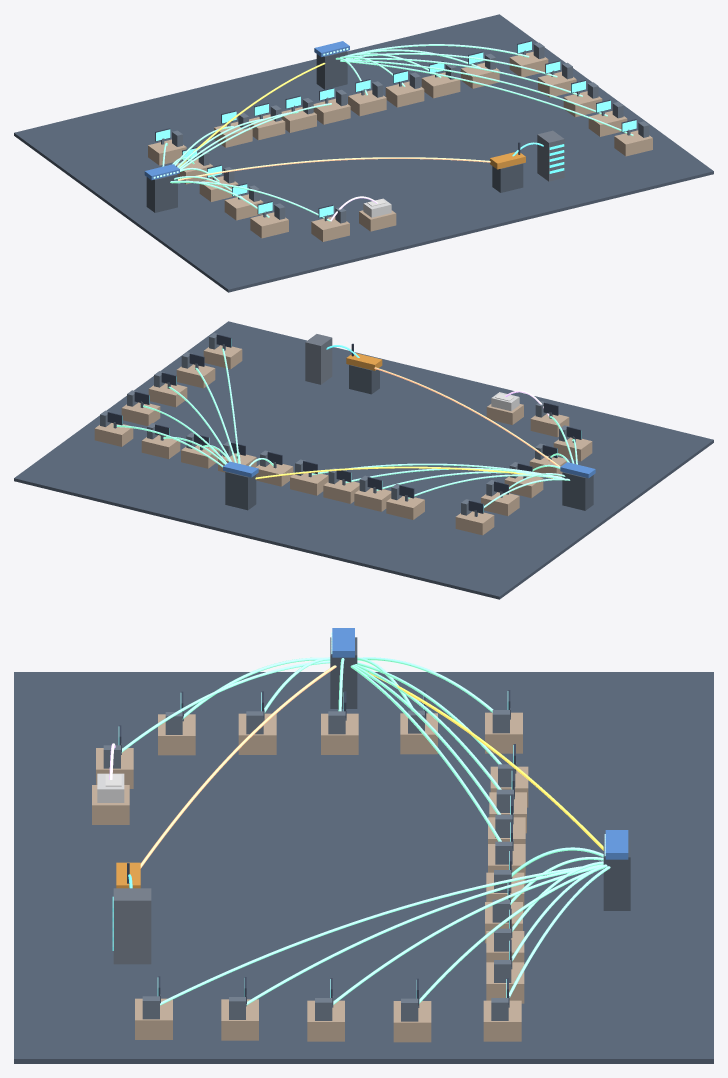
File: Laboratorio 3D Anger Micaela.glb
The picture shows the model from 3 angles, top to bottom: view 1: azimuth 30°, elevation 25°; view 2: azimuth 150°, elevation 25°; view 3: azimuth 270°, elevation 25°; orthographic projection. The views are drawn at different scales.
Size of the model in its own units: 1.02 by 0.09 by 0.78.
